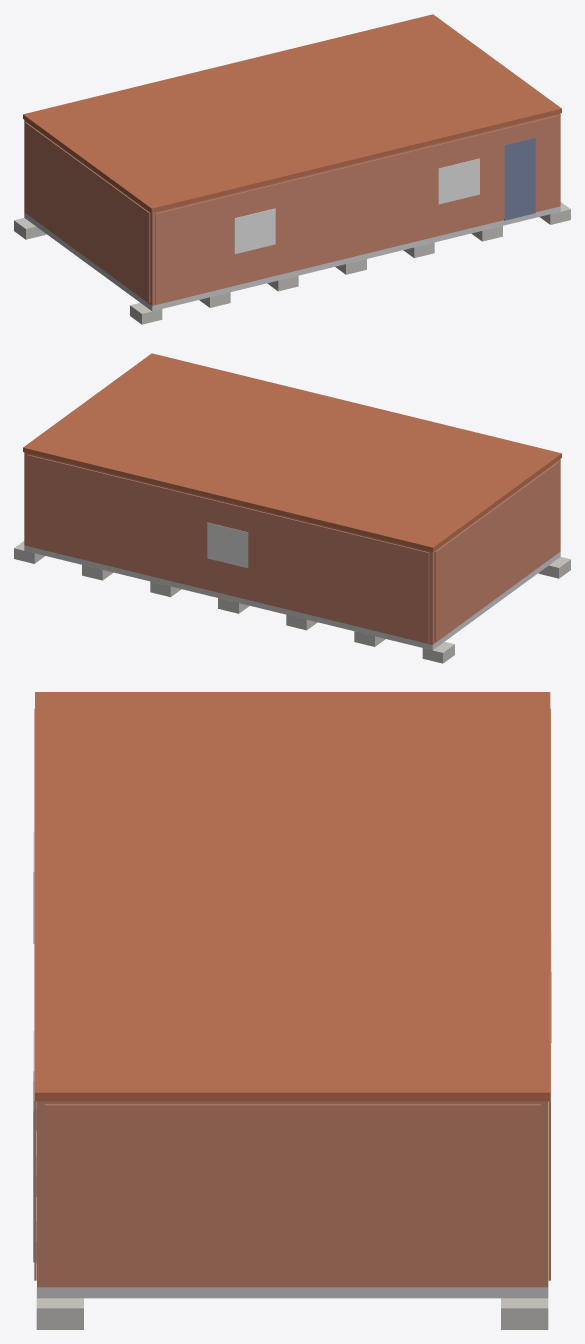
The model's file is Studio-40-Base-BrickRed-LOD2.glb.
The picture shows the model from 3 angles, top to bottom: view 1: azimuth 30°, elevation 25°; view 2: azimuth 150°, elevation 25°; view 3: azimuth 270°, elevation 25°; orthographic projection. The views are drawn at different scales.
Visible parts, largest first — view 1: RoofMain, ExteriorPanelsStandard, BaseFrame, WindowsStandard, ExteriorShell, FoundationBlocks, EntryDoor; view 2: RoofMain, ExteriorPanelsStandard, BaseFrame, ExteriorShell, FoundationBlocks, WindowsStandard; view 3: RoofMain, ExteriorPanelsStandard, ExteriorShell, BaseFrame, FoundationBlocks.
Boxes of the visible parts, bbox=[...] form: RoofMain: bbox=[23, 14, 561, 212]; ExteriorPanelsStandard: bbox=[25, 115, 557, 303]; BaseFrame: bbox=[24, 206, 560, 311]; WindowsStandard: bbox=[234, 158, 479, 254]; ExteriorShell: bbox=[24, 113, 560, 305]; FoundationBlocks: bbox=[14, 202, 570, 324]; EntryDoor: bbox=[504, 137, 535, 220]; RoofMain: bbox=[23, 353, 561, 551]; ExteriorPanelsStandard: bbox=[27, 454, 559, 642]; BaseFrame: bbox=[24, 545, 560, 650]; ExteriorShell: bbox=[24, 452, 560, 644]; FoundationBlocks: bbox=[14, 541, 570, 663]; WindowsStandard: bbox=[207, 522, 248, 568]; RoofMain: bbox=[35, 692, 550, 1101]; ExteriorPanelsStandard: bbox=[34, 708, 550, 1284]; ExteriorShell: bbox=[37, 1101, 548, 1287]; BaseFrame: bbox=[37, 1287, 548, 1298]; FoundationBlocks: bbox=[36, 1101, 548, 1329].
Size of the model in its own units: 12.49 by 3.17 by 6.53.
